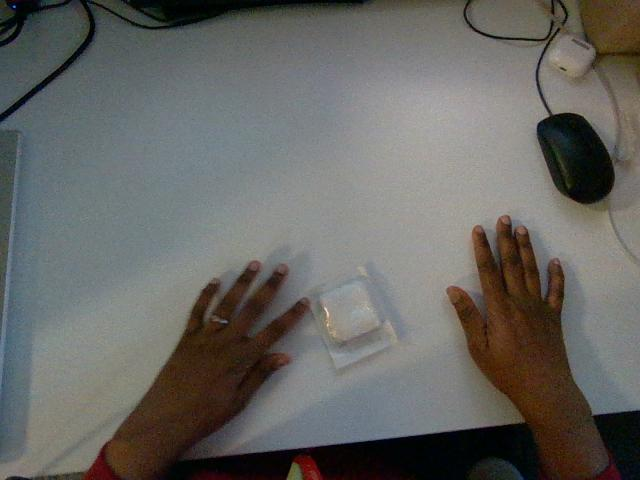gauze: (310, 267, 396, 369)
